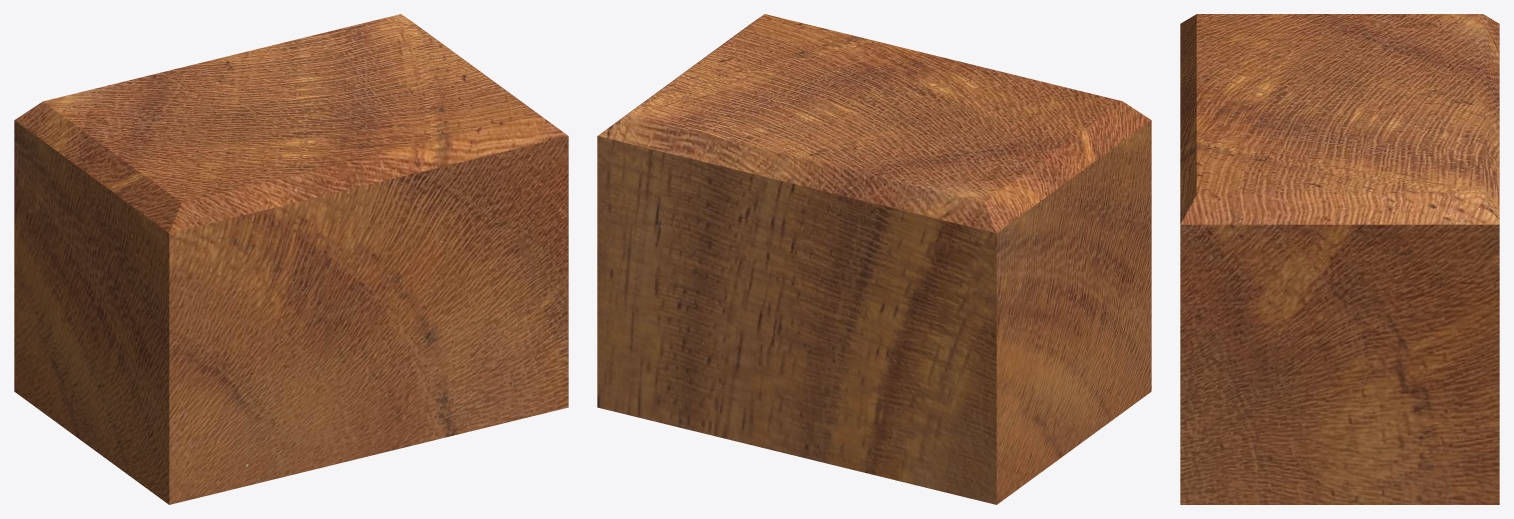
3 views of the same model, side by side, from view 1: azimuth 30°, elevation 25°; view 2: azimuth 150°, elevation 25°; view 3: azimuth 270°, elevation 25° (orthographic). The views are drawn at different scales.
Parts seen in each view (by area): view 1: pCube47; view 2: pCube47; view 3: pCube47.
Part boxes in pixels (bbox=[...]): pCube47: bbox=[14, 14, 568, 504]; pCube47: bbox=[597, 14, 1151, 504]; pCube47: bbox=[1180, 14, 1499, 504].
Bounding box in the file's own units: 0.5266 × 0.367 × 0.3535.
Materials: 1 (1 with a texture image).
